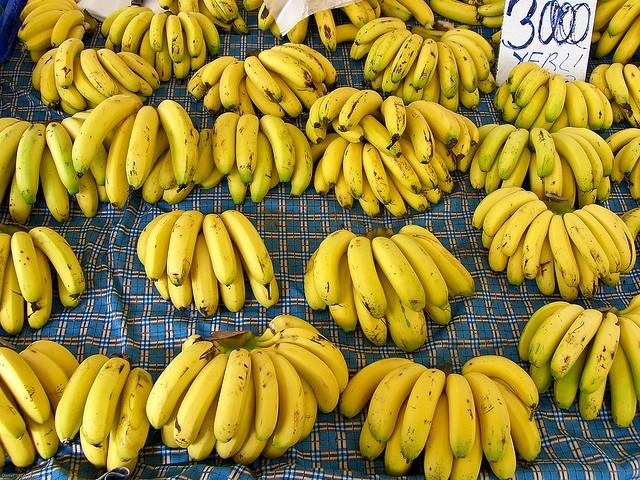banana: (146, 341, 220, 429), (252, 342, 340, 414), (256, 328, 349, 394), (72, 94, 143, 179), (174, 348, 232, 449), (54, 354, 110, 447), (373, 257, 427, 353), (367, 363, 429, 443), (220, 210, 274, 300), (390, 234, 450, 312), (339, 358, 416, 418), (405, 234, 475, 298), (82, 357, 130, 450), (460, 355, 540, 410), (463, 372, 511, 463), (28, 227, 86, 302), (491, 379, 542, 463), (401, 368, 446, 463), (371, 236, 426, 313), (265, 351, 306, 449), (156, 99, 198, 193), (0, 347, 51, 424), (550, 308, 603, 382), (52, 117, 108, 186), (348, 236, 390, 326), (115, 367, 153, 462), (214, 348, 252, 443), (528, 304, 584, 368), (19, 350, 70, 419), (580, 204, 632, 271), (313, 229, 357, 306), (579, 312, 620, 394), (0, 378, 36, 468), (564, 212, 610, 280), (518, 302, 570, 362), (106, 112, 138, 209), (572, 210, 622, 272), (167, 210, 206, 288), (144, 210, 186, 282), (234, 242, 279, 309), (270, 44, 329, 95), (556, 127, 614, 177), (126, 106, 160, 191), (558, 132, 604, 194), (282, 42, 338, 92), (10, 231, 42, 318), (250, 349, 280, 441), (0, 121, 32, 206), (16, 123, 49, 204), (187, 385, 222, 461), (550, 132, 594, 192), (501, 200, 548, 256), (483, 190, 539, 237), (258, 114, 296, 183), (445, 374, 476, 458), (377, 148, 429, 198), (45, 122, 80, 196), (424, 392, 453, 480), (450, 403, 483, 480), (407, 101, 461, 148), (202, 214, 237, 286), (328, 250, 358, 333), (190, 230, 218, 318), (579, 332, 607, 420), (16, 403, 59, 460), (401, 132, 449, 183), (382, 160, 428, 213), (398, 136, 442, 191), (554, 342, 590, 409), (258, 50, 318, 90), (609, 343, 637, 428), (472, 186, 526, 230), (385, 392, 413, 476), (40, 142, 69, 223), (352, 281, 387, 347), (548, 215, 580, 287), (232, 406, 270, 466), (442, 34, 489, 82), (522, 210, 554, 280), (439, 29, 495, 68), (456, 124, 499, 174), (617, 317, 640, 410), (284, 122, 312, 198), (28, 246, 52, 334), (25, 340, 80, 378), (0, 249, 24, 335), (80, 48, 120, 98), (568, 234, 598, 299), (97, 48, 141, 92), (358, 114, 402, 158), (338, 90, 384, 132), (362, 142, 392, 206), (371, 28, 412, 74), (478, 124, 517, 172), (219, 240, 245, 312), (404, 106, 436, 164), (596, 14, 638, 58), (255, 314, 321, 342), (245, 74, 285, 120), (244, 56, 283, 103), (250, 128, 274, 204), (212, 112, 240, 177), (443, 41, 478, 93), (266, 68, 302, 118), (570, 80, 605, 131), (73, 58, 110, 106), (274, 72, 320, 110), (18, 9, 69, 43), (497, 128, 529, 181), (116, 52, 160, 90), (236, 114, 259, 186), (391, 34, 424, 84), (488, 213, 514, 276), (142, 146, 170, 204), (507, 222, 532, 286), (528, 127, 556, 184), (514, 85, 549, 130), (319, 87, 360, 125), (322, 136, 351, 189), (54, 38, 84, 89), (584, 82, 614, 133), (530, 343, 560, 394), (304, 246, 327, 312), (514, 68, 550, 110), (354, 17, 406, 46), (228, 131, 248, 206), (122, 10, 156, 54), (379, 96, 406, 151), (506, 61, 540, 104), (202, 56, 238, 96), (412, 38, 438, 93), (219, 60, 247, 111), (189, 11, 220, 57), (612, 15, 640, 65), (298, 373, 318, 442), (80, 424, 110, 470), (430, 0, 482, 26), (605, 62, 632, 112), (359, 417, 389, 462), (364, 32, 392, 80), (190, 129, 214, 185), (343, 138, 365, 199), (9, 168, 32, 226), (51, 10, 86, 48), (101, 5, 140, 39), (501, 146, 532, 188), (1, 388, 26, 440), (436, 42, 458, 100), (31, 48, 59, 92), (178, 12, 204, 59), (608, 0, 640, 38), (490, 434, 516, 480), (485, 140, 506, 196), (75, 167, 98, 218), (536, 232, 554, 296), (396, 0, 434, 30), (20, 1, 74, 22), (148, 125, 170, 176), (592, 1, 628, 32), (564, 82, 588, 128), (402, 54, 423, 106), (308, 133, 341, 166), (22, 3, 72, 24), (528, 96, 556, 133), (55, 80, 87, 112), (168, 270, 192, 312), (545, 74, 566, 122), (188, 61, 212, 103), (40, 52, 59, 104), (19, 27, 54, 55), (350, 33, 386, 60), (314, 9, 336, 53), (432, 132, 456, 172), (334, 162, 354, 210), (331, 115, 365, 143), (589, 64, 613, 103), (173, 26, 190, 80), (544, 148, 563, 196), (605, 128, 640, 154), (156, 26, 172, 82), (620, 136, 640, 180), (158, 148, 178, 191), (166, 15, 183, 64), (622, 64, 640, 110), (458, 73, 479, 112), (204, 0, 238, 24), (424, 296, 451, 325), (456, 113, 479, 147), (421, 64, 441, 103), (340, 2, 368, 29), (120, 28, 148, 55), (204, 76, 221, 120), (150, 12, 168, 52), (378, 0, 412, 21), (306, 117, 332, 144), (548, 103, 570, 134), (287, 15, 310, 44), (494, 80, 510, 121), (621, 207, 640, 241), (139, 28, 155, 68), (418, 179, 442, 204), (309, 96, 327, 128), (439, 85, 459, 112), (336, 24, 360, 44), (630, 156, 640, 203), (258, 1, 274, 30), (477, 0, 505, 16), (371, 66, 387, 90), (269, 19, 286, 40), (65, 24, 85, 41), (479, 14, 503, 28), (242, 0, 264, 12), (394, 78, 404, 100), (492, 30, 501, 46), (367, 0, 378, 10)
